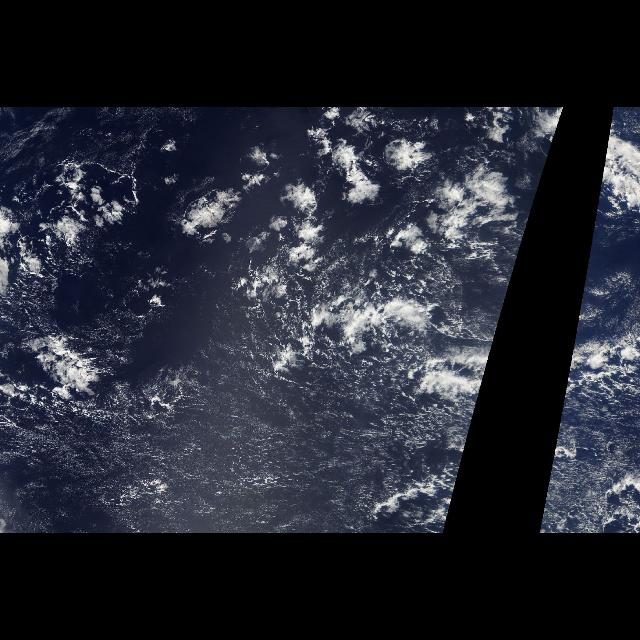Flower: (152, 119, 528, 358)
Sugar: (49, 387, 419, 528)
